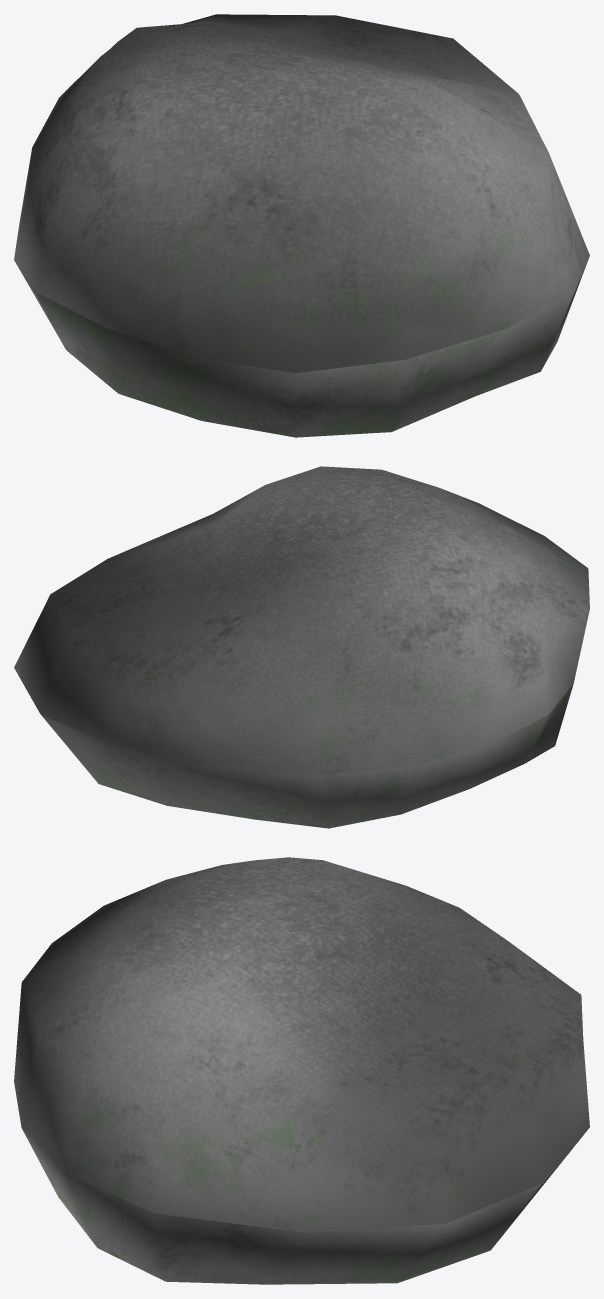
Rendered from Stone 1.fbx.
3 renders of one model, top to bottom at view 1: azimuth 30°, elevation 25°; view 2: azimuth 150°, elevation 25°; view 3: azimuth 270°, elevation 25°, orthographic. The views are drawn at different scales.
Parts seen in each view (by area): view 1: Stone 1; view 2: Stone 1; view 3: Stone 1.
Part boxes in pixels (box(x1,y1,x2,y2)): Stone 1: box(14, 14, 589, 437); Stone 1: box(14, 466, 589, 828); Stone 1: box(14, 857, 589, 1284).
Bounding box in the file's own units: 249 × 131 × 246.
